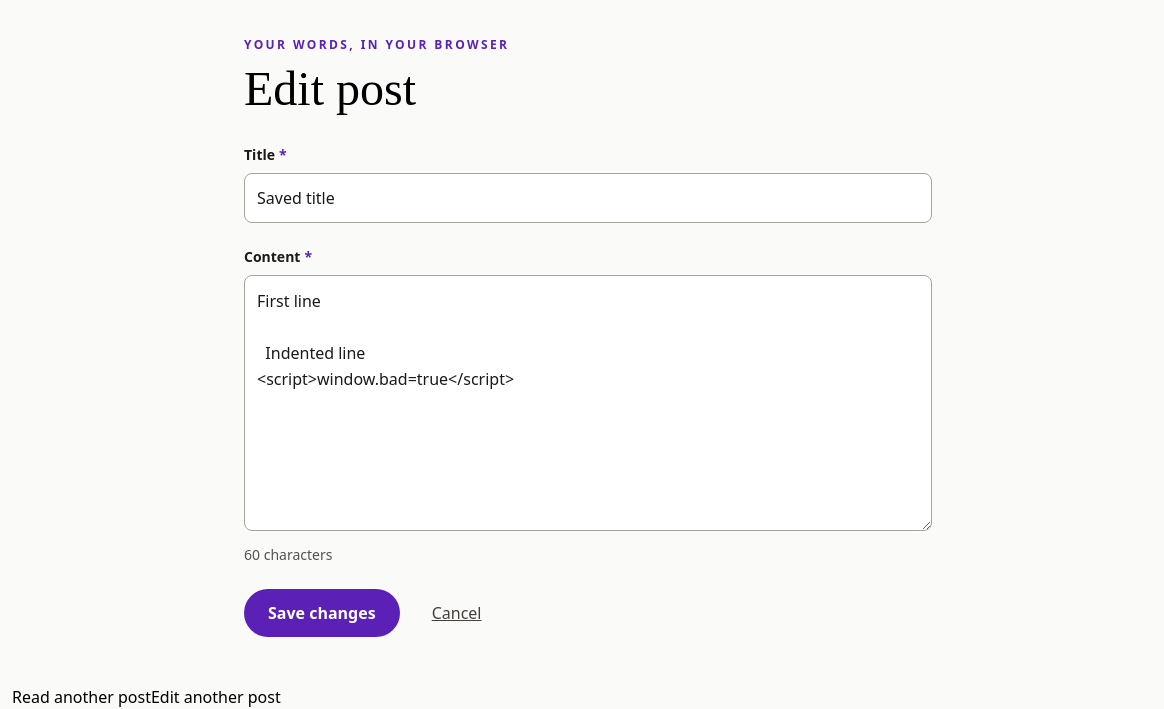
Test: same-page route ID refresh › refreshes the editor target to forbidden and discards old draft/validation without writes
Clear the field labelled "Title*" at (588, 198), box [244, 173, 932, 223]
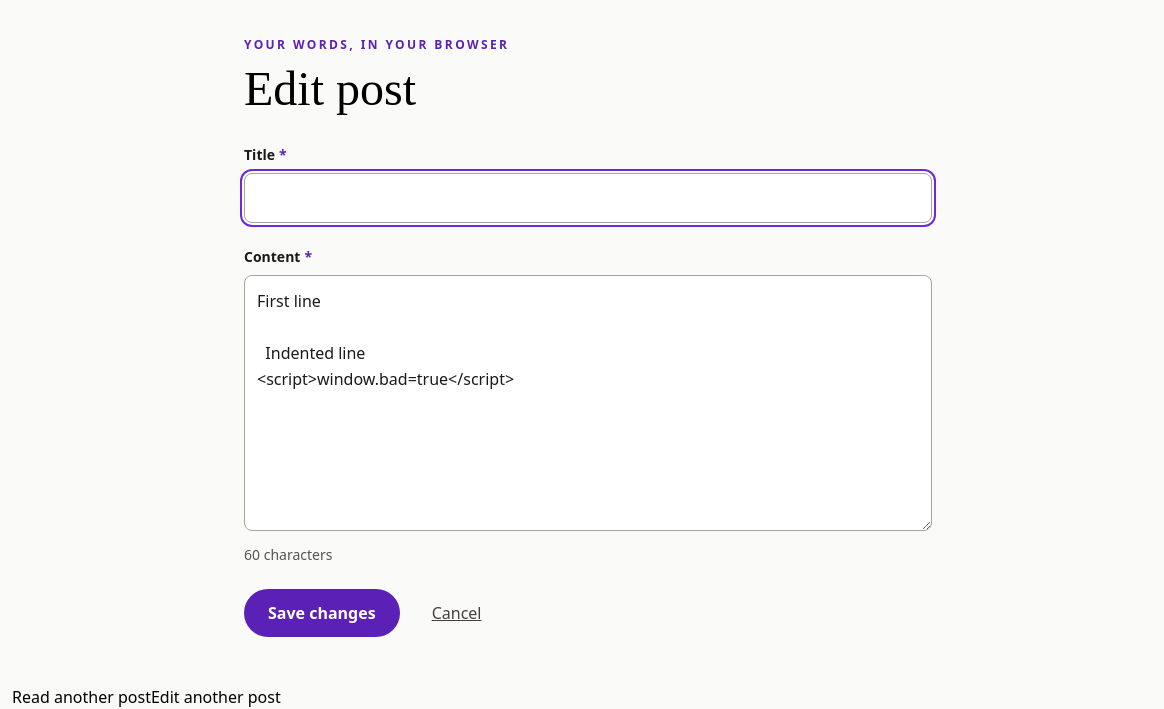
Click the button "Save changes".
click(322, 613)  # box [244, 589, 400, 637]
(page scrolled)
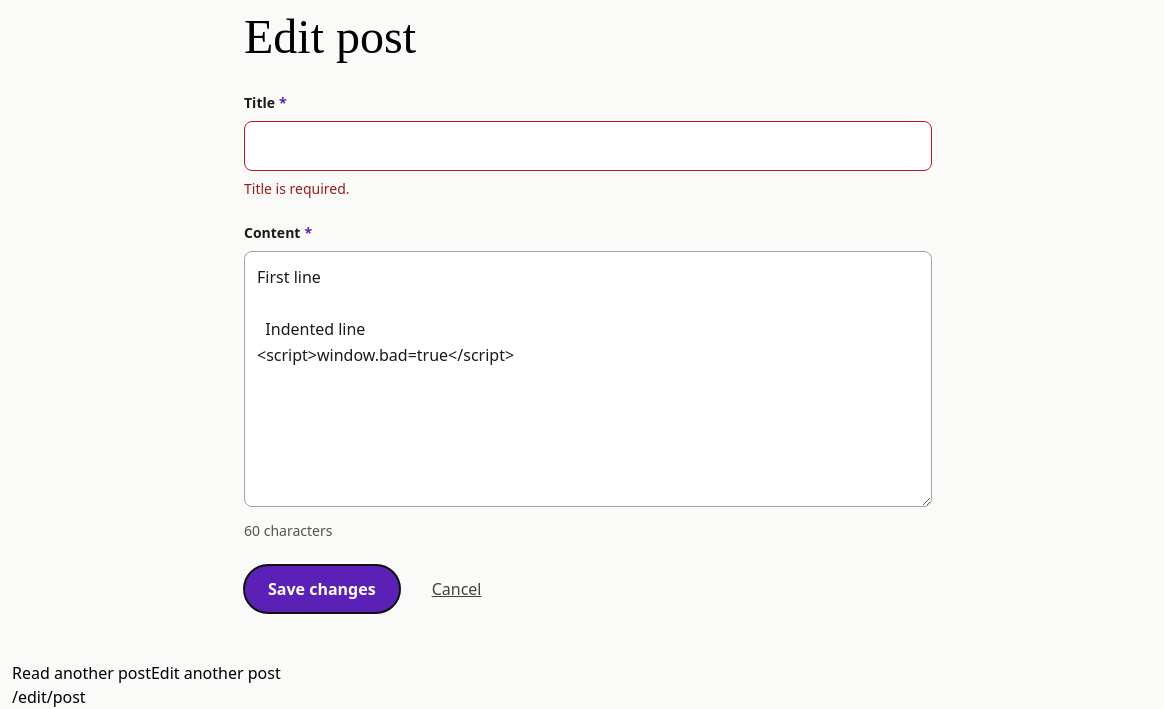
Check: the text "Title is required." is shown, box [244, 179, 350, 198]
Click the link "Edit another post".
click(216, 673)  # box [151, 662, 281, 684]
(page scrolled)
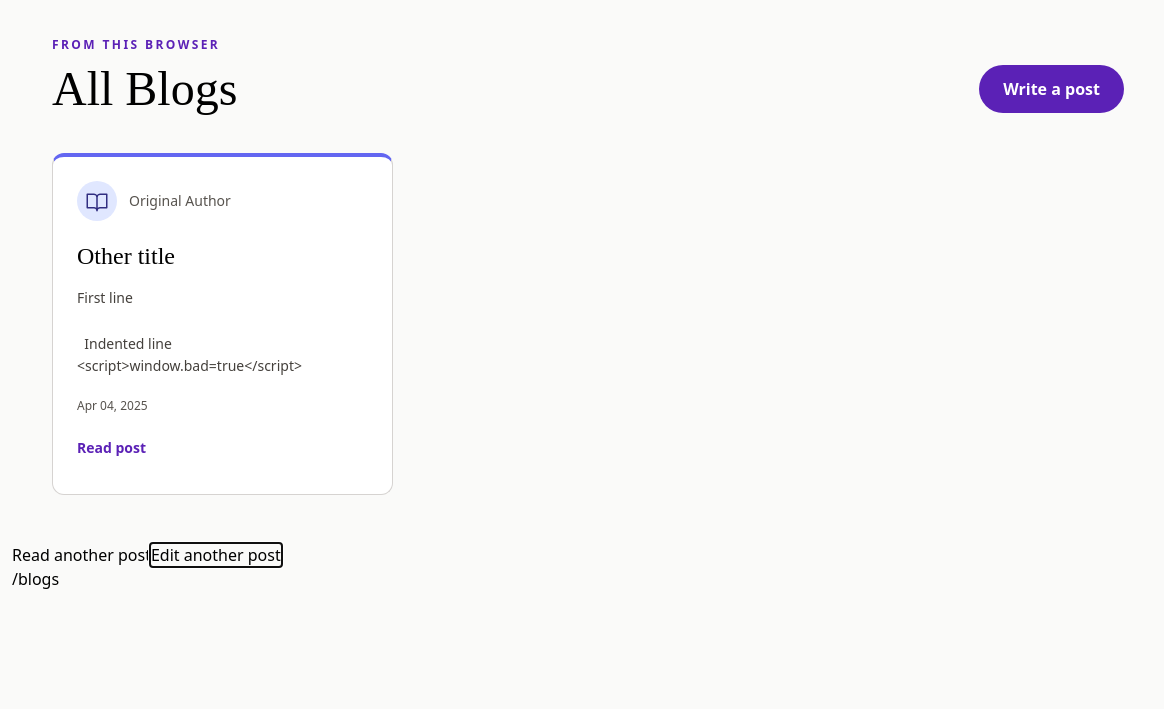
Check: the text with test id "location" reads "/blogs", box [12, 568, 59, 590]
Check: the text "Title is required." is gone
Check: the message "Title is required." is gone
